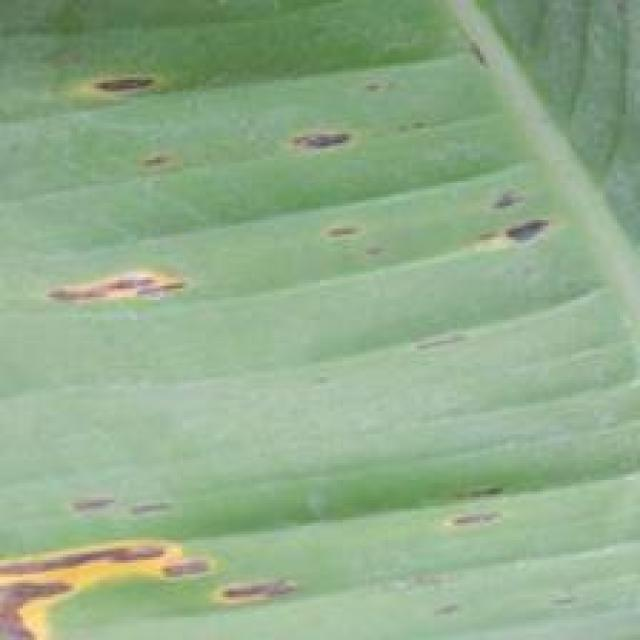Early_leaf_spot: (2, 509, 305, 639), (35, 252, 204, 320), (463, 176, 558, 283), (272, 93, 368, 173), (68, 46, 182, 112), (428, 474, 516, 545), (316, 206, 394, 265), (111, 130, 185, 185), (406, 314, 481, 359), (421, 585, 467, 629), (458, 28, 494, 83), (539, 580, 588, 619)
